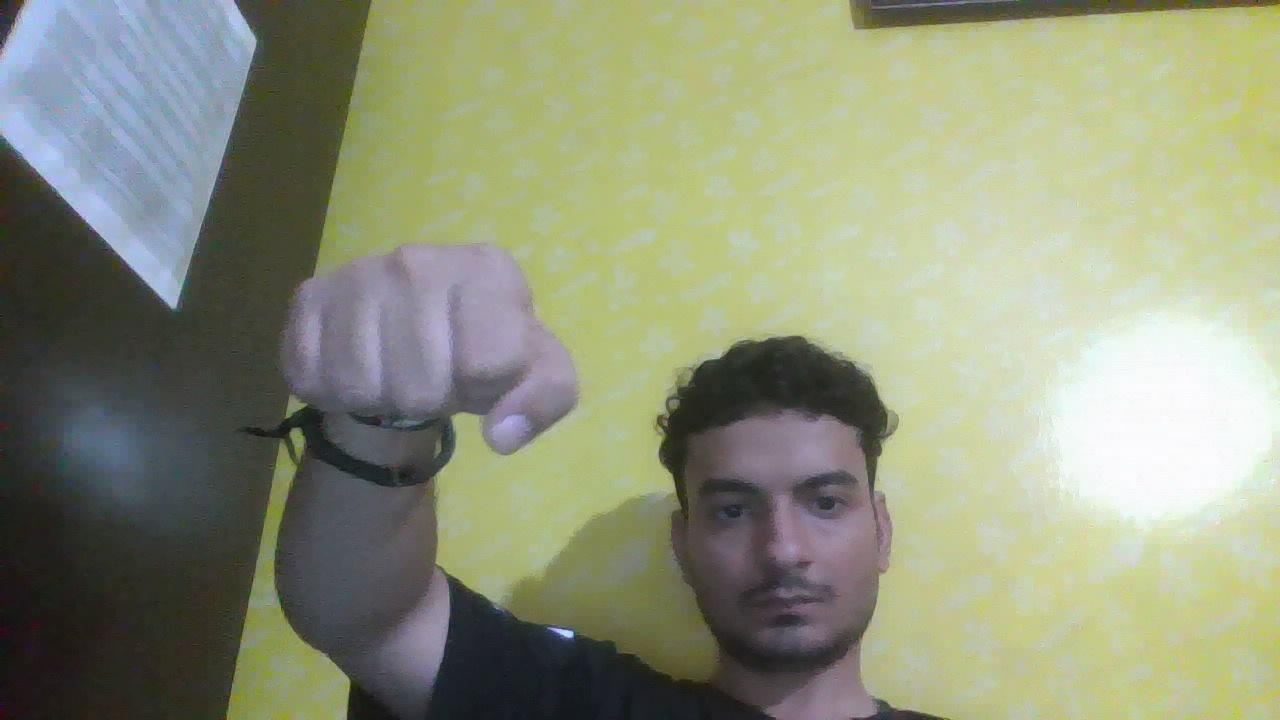Yes: (271, 237, 626, 483)
